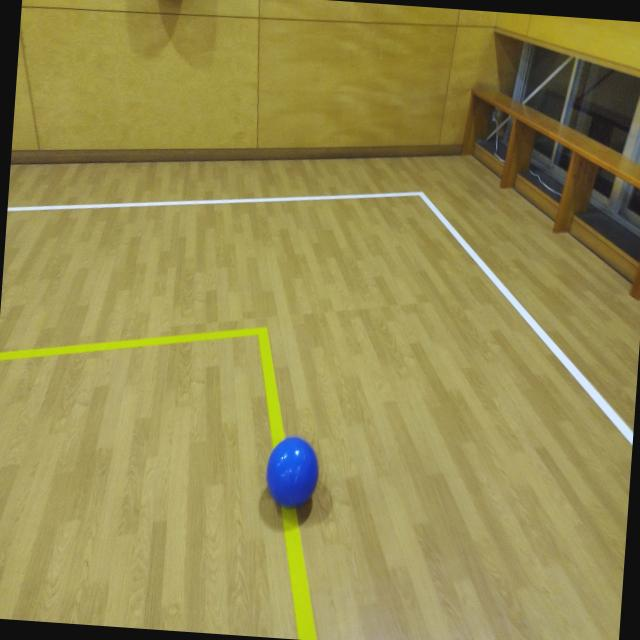blue_ball: (265, 434, 319, 509)
